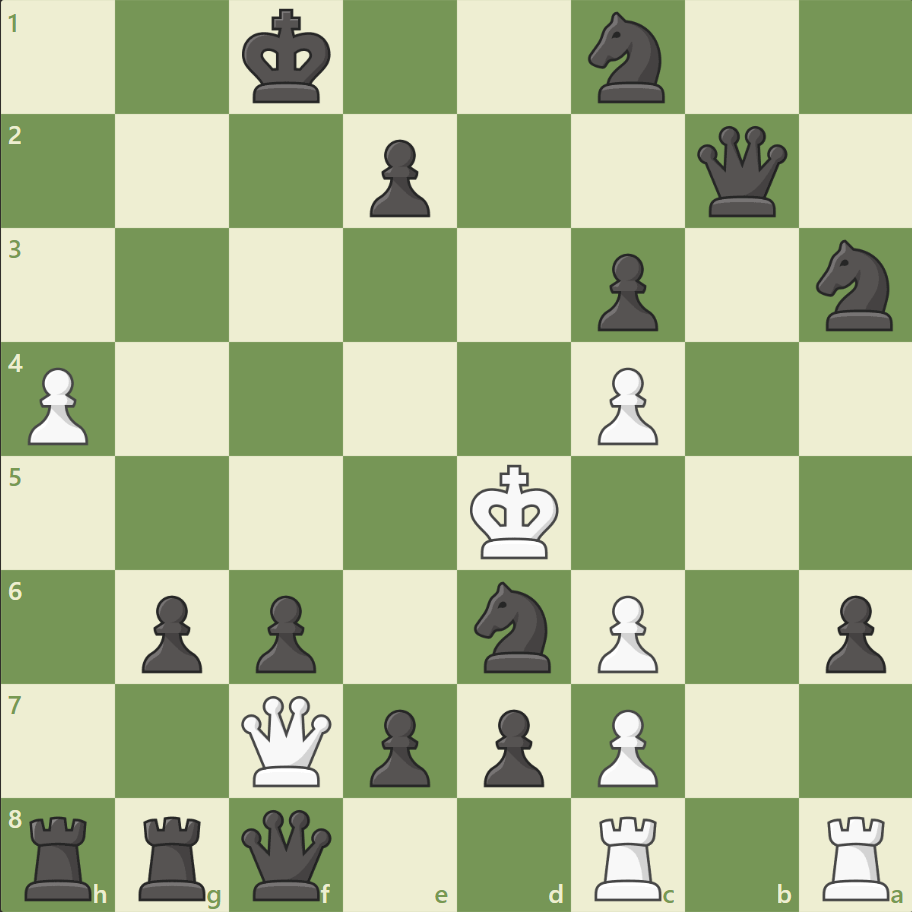K: (465, 458, 565, 566)
P: (20, 359, 95, 450), (588, 700, 662, 791), (588, 586, 662, 677), (588, 359, 662, 450)
Q: (237, 690, 336, 789)
R: (814, 806, 897, 904), (587, 806, 670, 904)
k: (238, 4, 338, 112)
n: (806, 234, 903, 337), (579, 7, 676, 110), (465, 575, 562, 677)
p: (474, 700, 549, 791), (247, 586, 322, 677), (133, 586, 208, 677), (361, 700, 435, 791), (815, 586, 889, 677), (588, 246, 662, 337), (361, 132, 435, 223)
q: (691, 122, 790, 222), (237, 804, 336, 903)
r: (19, 806, 102, 904), (133, 806, 215, 904)
